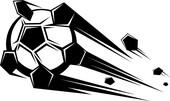football: (6, 9, 75, 74)
